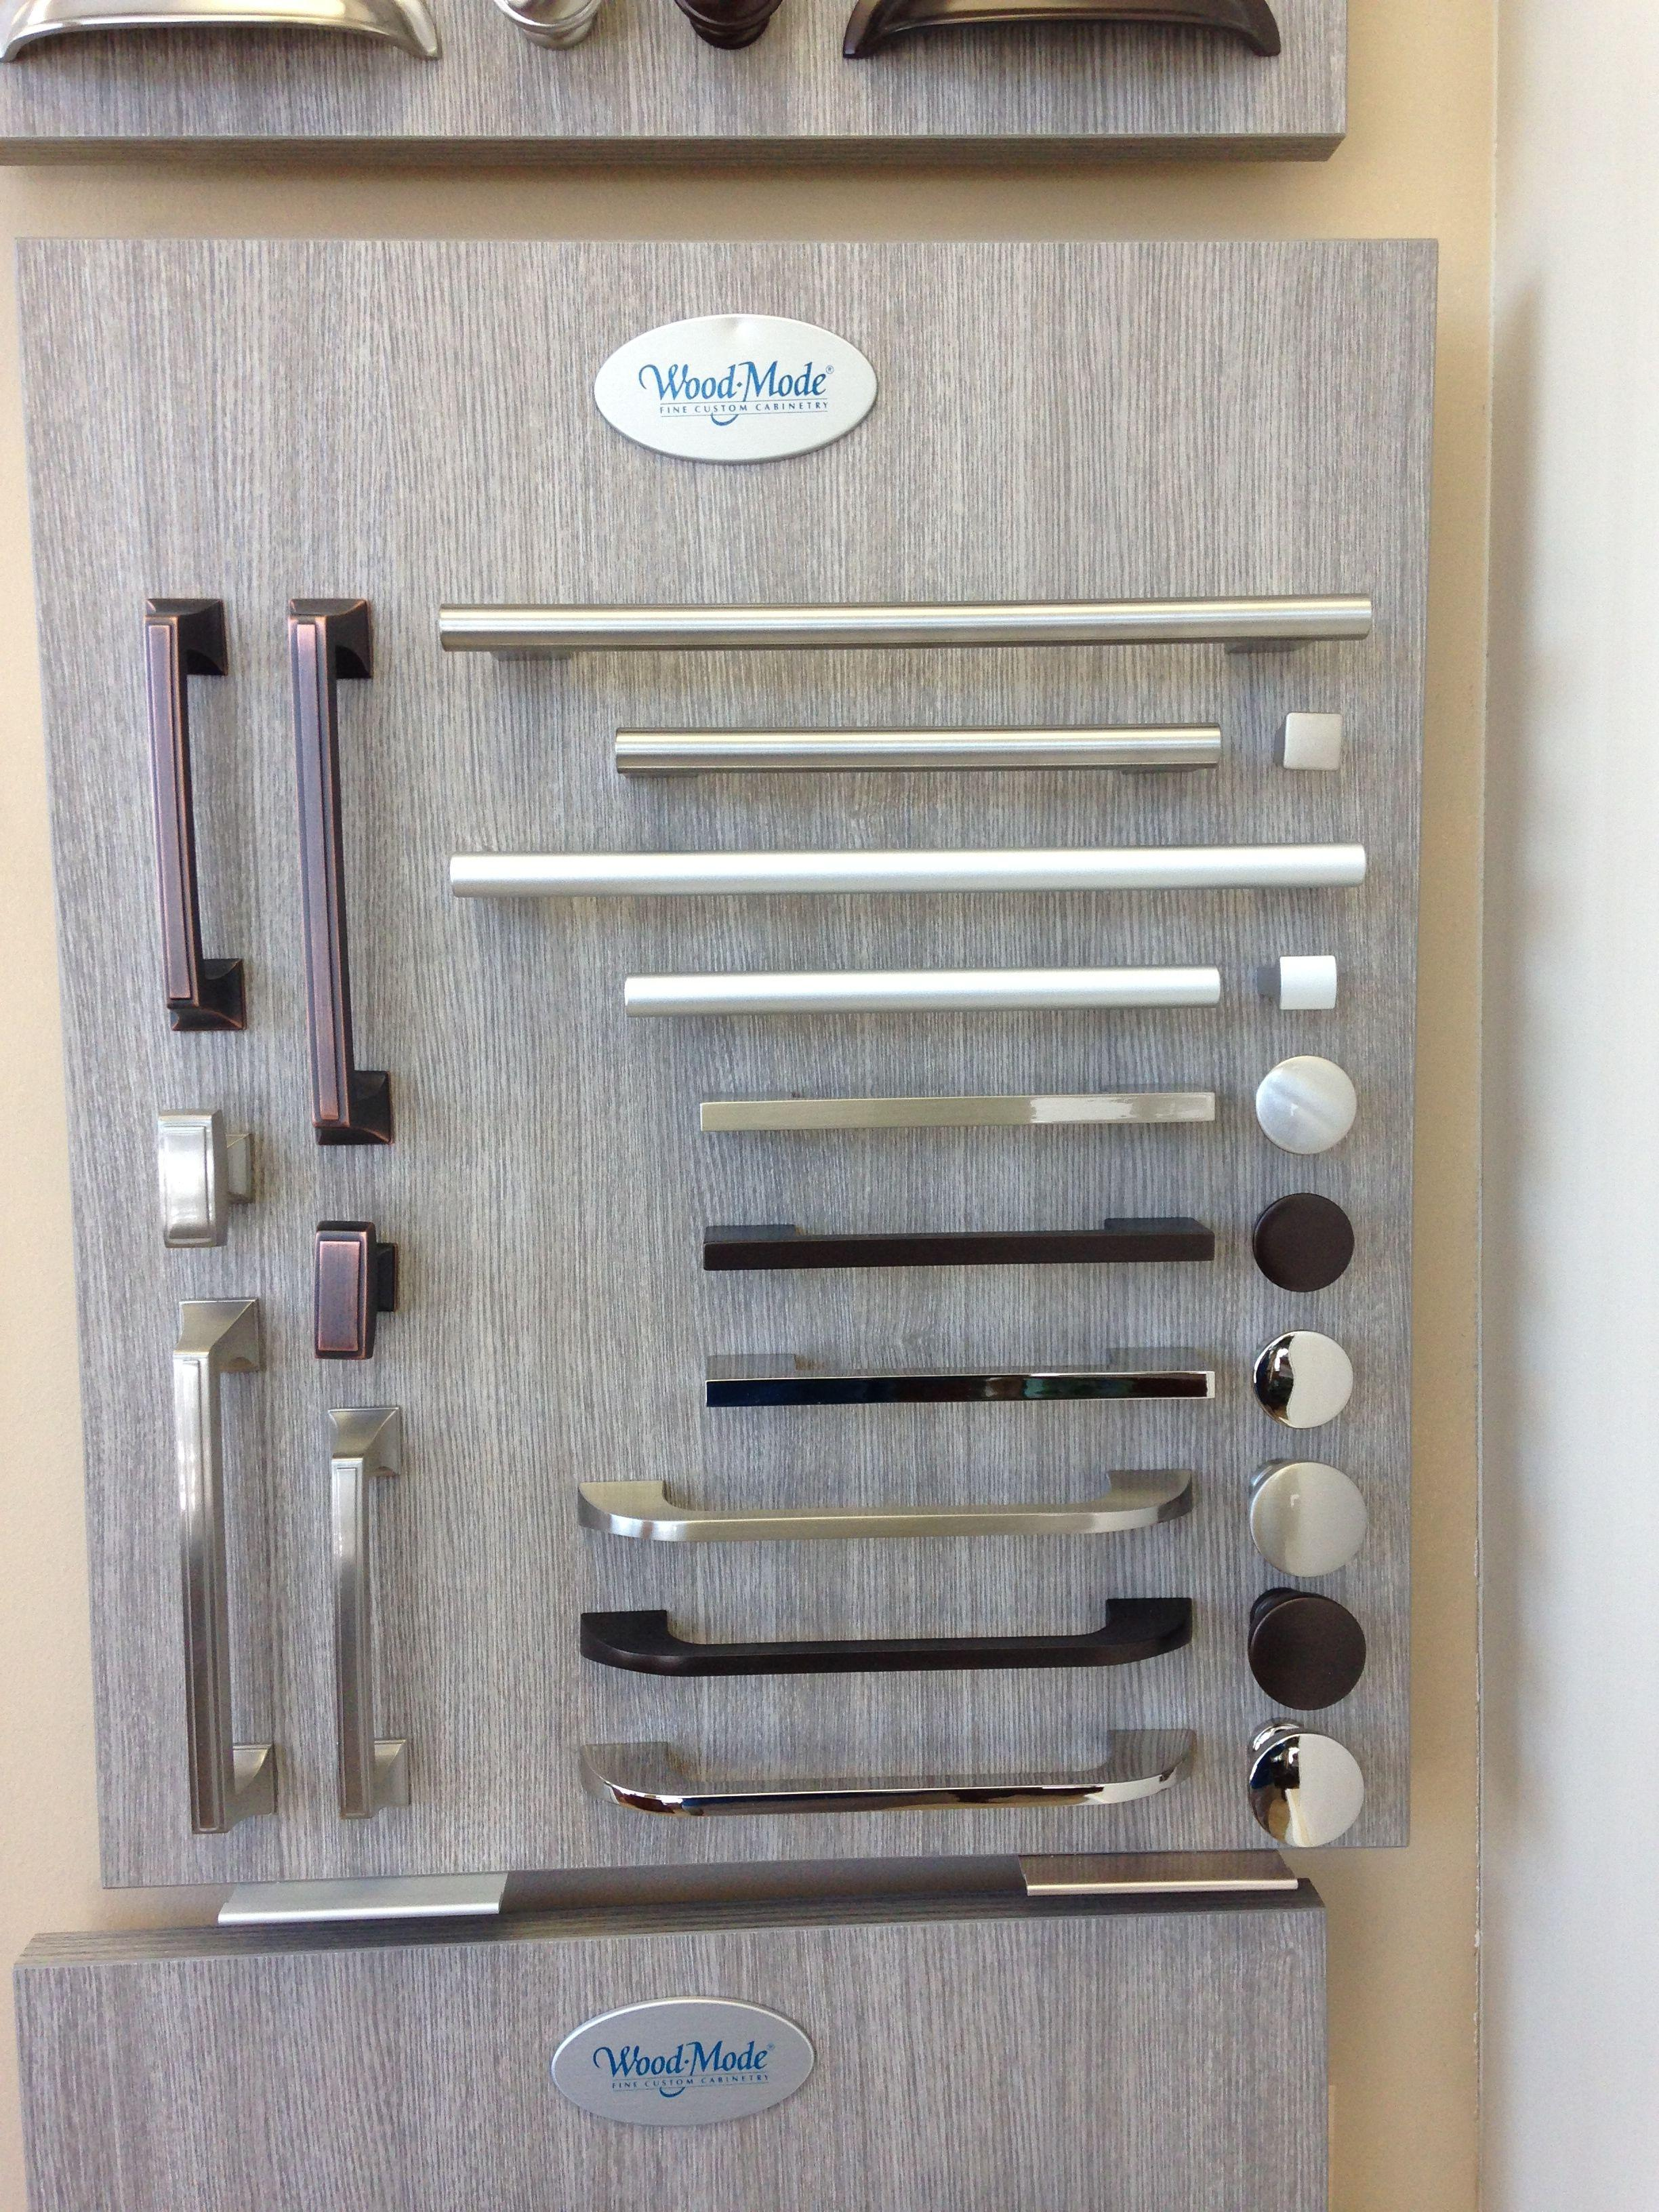handle: (439, 575, 1378, 697), (577, 1561, 1202, 1714), (589, 1439, 1195, 1573), (265, 578, 401, 1143), (610, 707, 1239, 824), (437, 836, 1384, 913), (695, 1324, 1230, 1456), (589, 1733, 1204, 1841), (699, 1195, 1227, 1315), (150, 1294, 265, 1813), (127, 590, 237, 1069), (680, 1061, 1232, 1155), (606, 965, 1230, 1038), (321, 1411, 411, 1806), (1216, 1710, 1408, 1867), (1211, 1561, 1396, 1723), (1216, 1425, 1378, 1580), (1248, 1294, 1359, 1444), (289, 1231, 396, 1383), (1232, 1190, 1371, 1303), (148, 1078, 235, 1254), (1237, 1038, 1368, 1155), (1258, 688, 1359, 789), (1243, 944, 1354, 1026)
